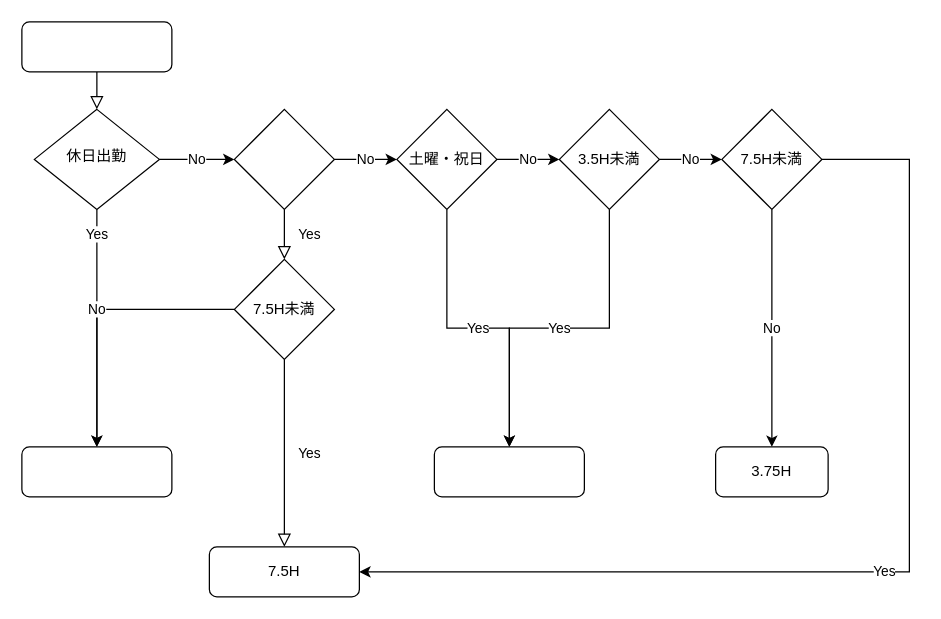
The diagram is 941 pixels wide and 619 high, and some of its shapes have lost their labels. Here are the shapes that lost their labels. From the top down, the box of each, then its label:
(21, 21, 172, 72): スタート
(233, 108, 334, 209): Flex
(21, 446, 172, 497): 実労働時間
(433, 446, 584, 497): 0H
